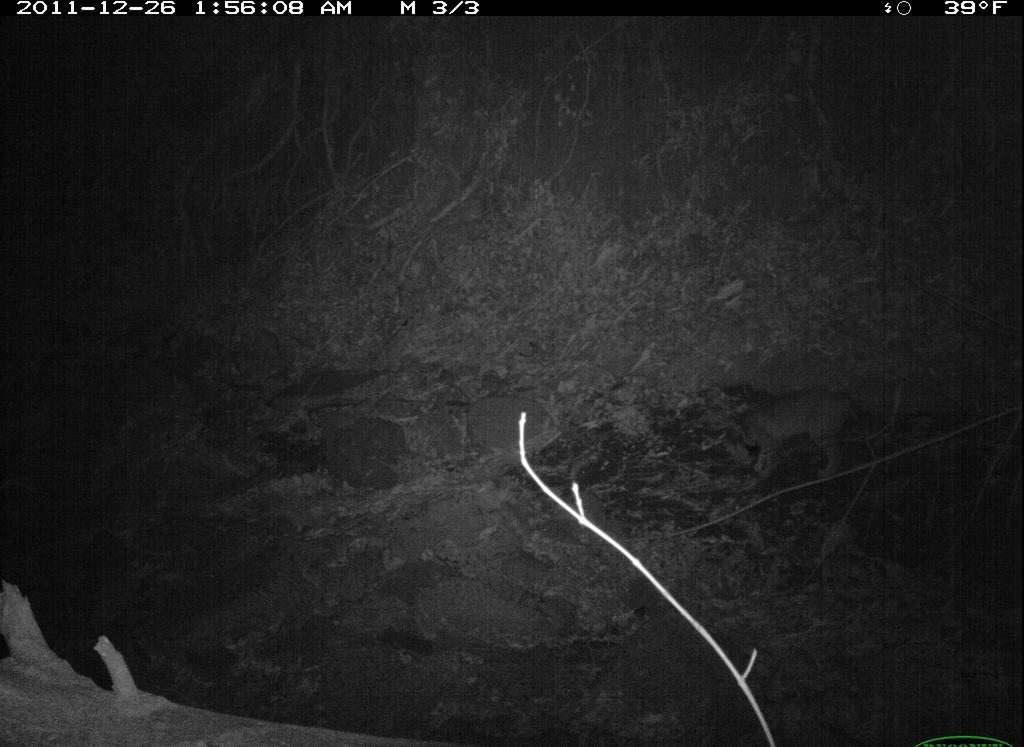bobcat: (719, 381, 877, 488)
